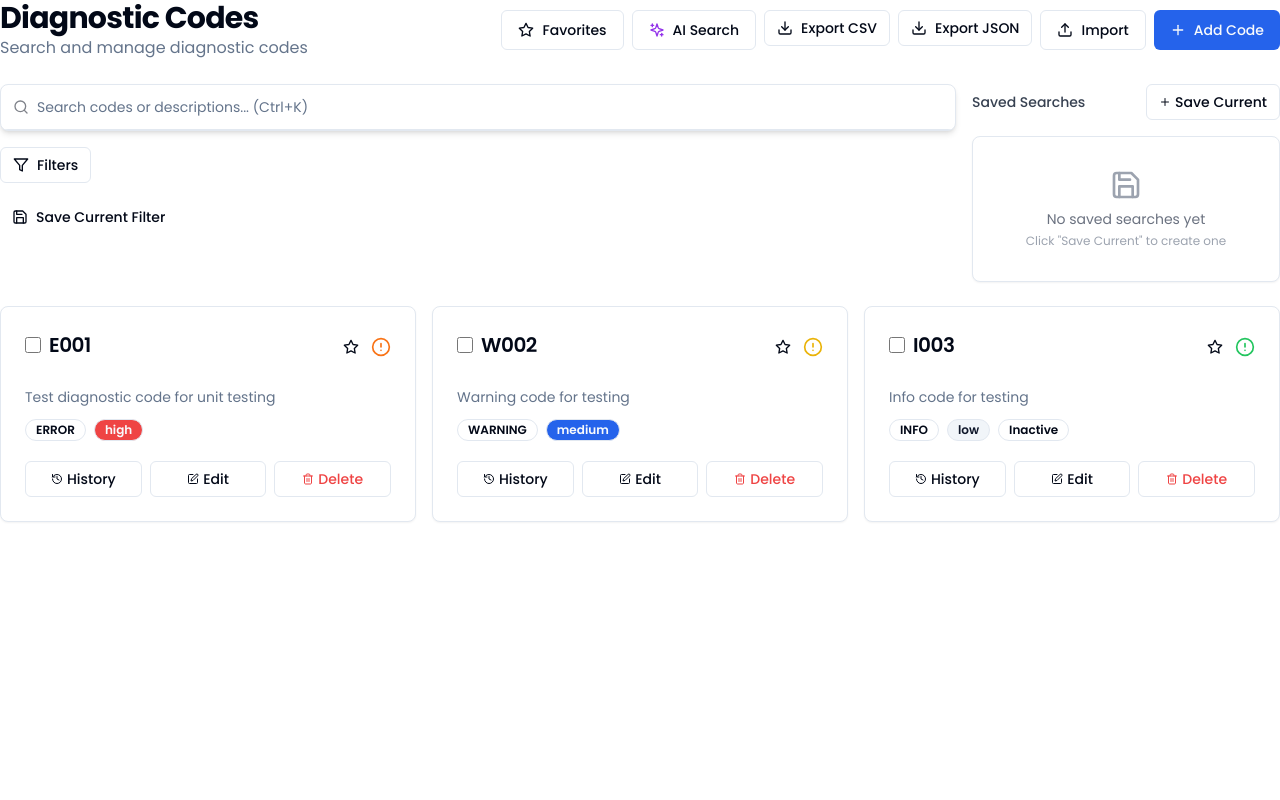
Test case: HomePage › opens bulk delete modal when bulk delete is clicked
Select some codes first to show bulk actions bar
Click the checkbox next to "E001": (33, 345) [25, 337, 41, 353]
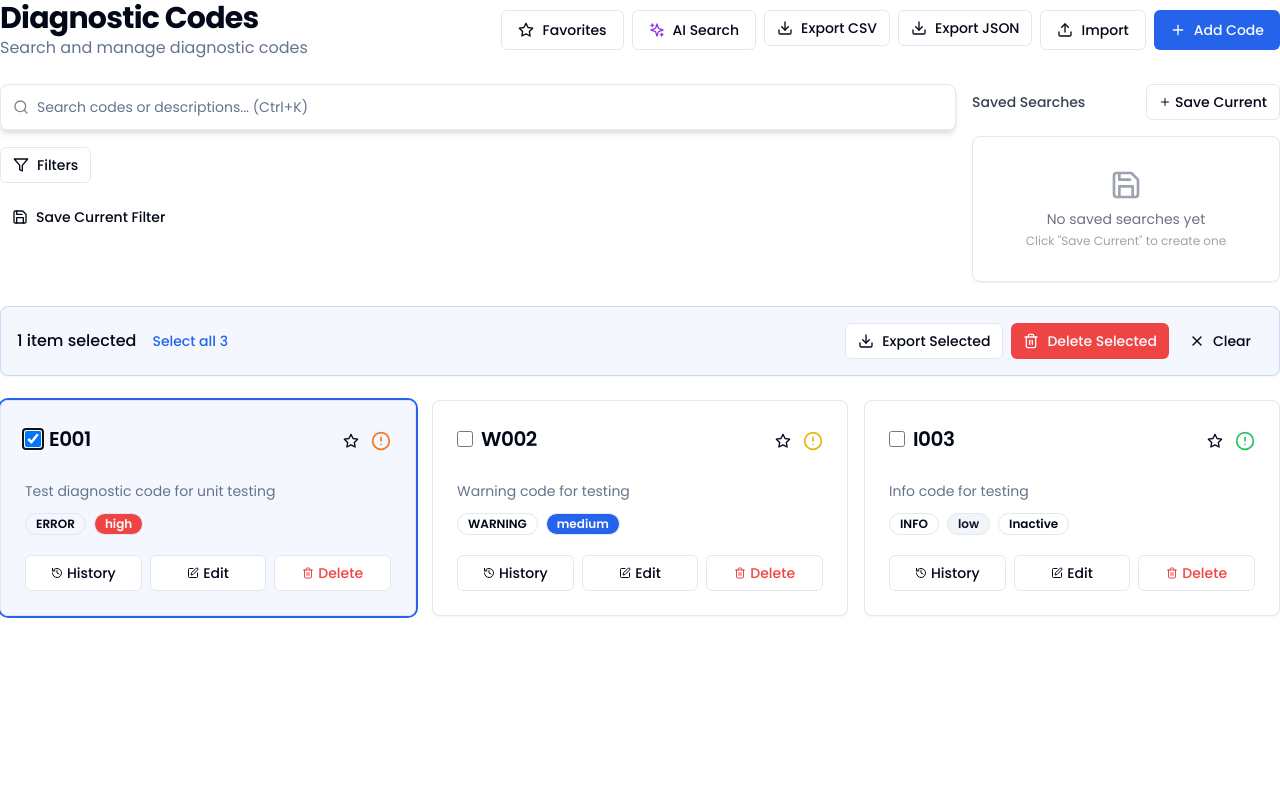
Click bulk delete
Click the button "Delete Selected": (1090, 341) [1011, 323, 1169, 359]
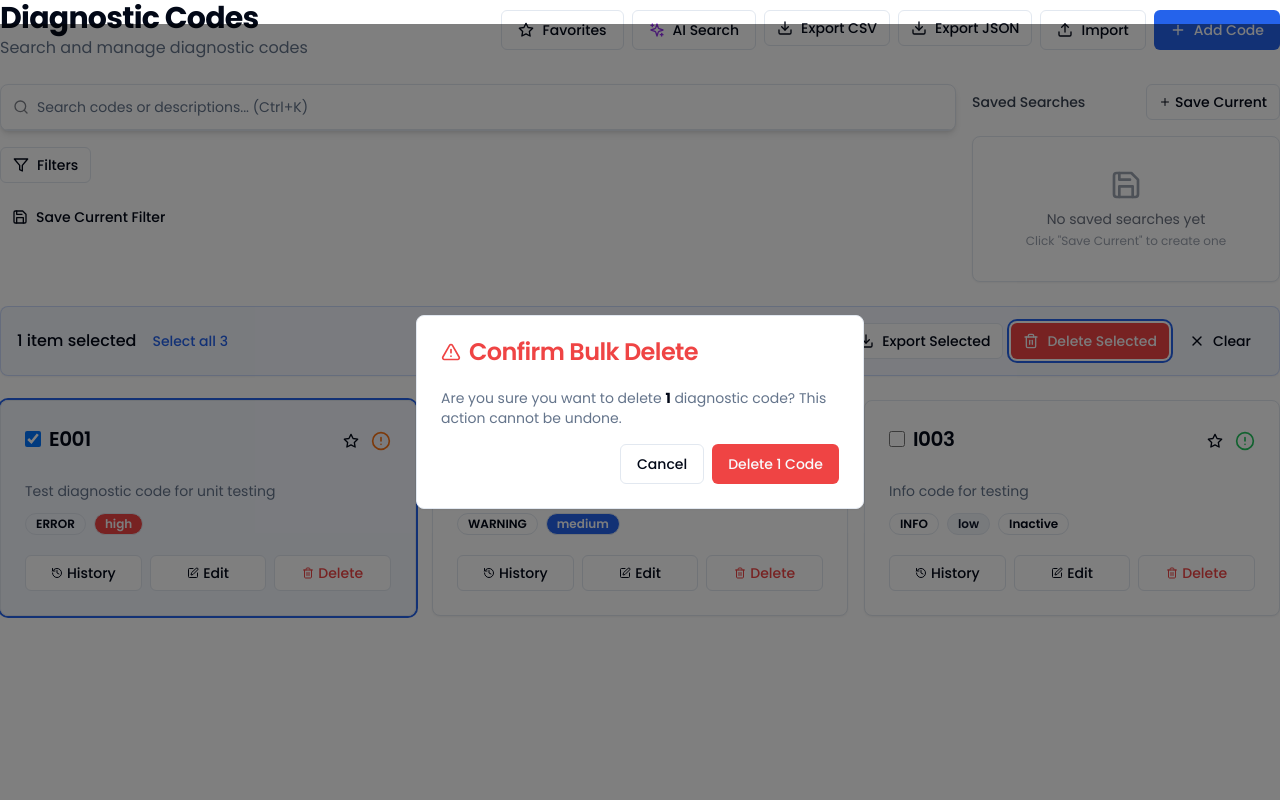
Now the text "Are you sure" is shown, box [441, 388, 665, 408]
